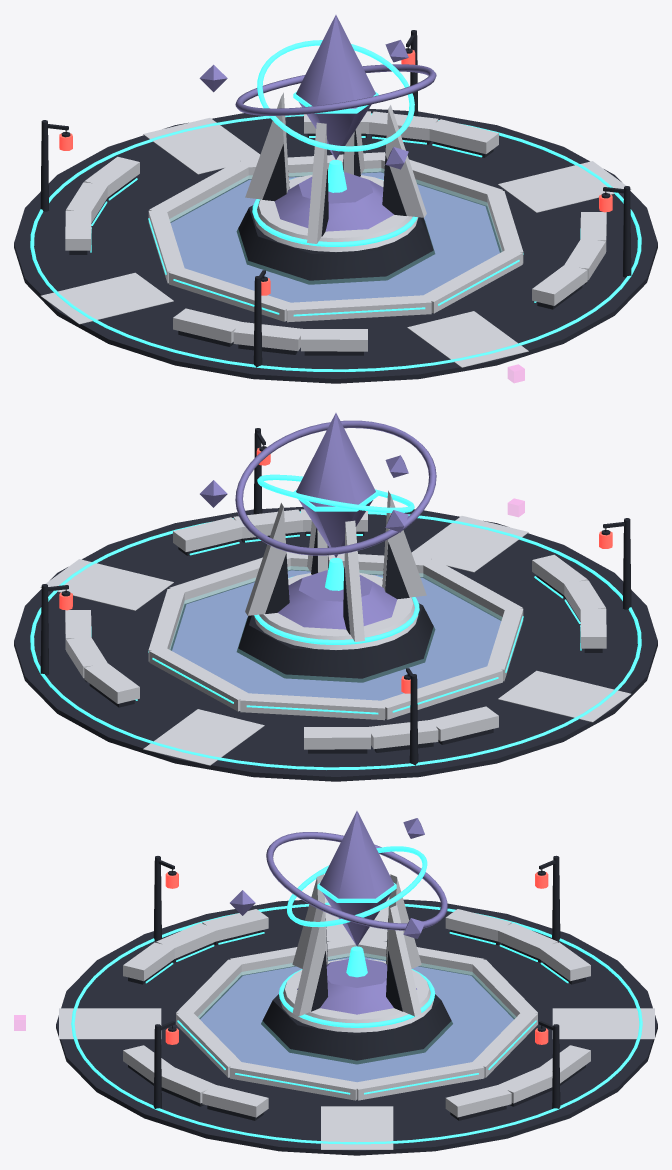
Rendered from AAT_AegisCore.glb.
3 views of the same model, one above another, from view 1: azimuth 30°, elevation 25°; view 2: azimuth 150°, elevation 25°; view 3: azimuth 270°, elevation 25° (orthographic). The views are drawn at different scales.
Parts seen in each view (by area): view 1: Floor_CorePlaza__floor, AegisCoreDeco__pearl, AegisCoreDeco__lavender, AegisCoreDeco__glass, AegisCoreDeco__bio, Wall_CoreBase__graphite, AegisCoreDeco__graphite, AegisCrystal__lavender, Wall_PoolRim8__pearl, CoreHaloOuter__lavender, Wall_PoolRim7__pearl, CoreHalo__bio (+18 smaller); view 2: Floor_CorePlaza__floor, AegisCoreDeco__pearl, AegisCoreDeco__lavender, AegisCoreDeco__glass, AegisCoreDeco__bio, Wall_CoreBase__graphite, AegisCoreDeco__graphite, AegisCrystal__lavender, CoreHaloOuter__lavender, Wall_PoolRim5__pearl, Wall_PoolRim6__pearl, Wall_PoolRim4__pearl (+18 smaller); view 3: Floor_CorePlaza__floor, AegisCoreDeco__pearl, AegisCoreDeco__lavender, AegisCoreDeco__glass, AegisCoreDeco__bio, Wall_CoreBase__graphite, AegisCoreDeco__graphite, AegisCrystal__lavender, CoreHaloOuter__lavender, Wall_PoolRim3__pearl, Wall_PoolRim2__pearl, Wall_PoolRim7__pearl (+19 smaller).
Boxes of the visible parts, x1=… form: Floor_CorePlaza__floor: x1=14, y1=108, x2=657, y2=383; AegisCoreDeco__pearl: x1=41, y1=92, x2=631, y2=367; AegisCoreDeco__lavender: x1=170, y1=40, x2=499, y2=302; AegisCoreDeco__glass: x1=169, y1=168, x2=501, y2=302; AegisCoreDeco__bio: x1=30, y1=113, x2=641, y2=371; Wall_CoreBase__graphite: x1=236, y1=205, x2=435, y2=284; AegisCoreDeco__graphite: x1=40, y1=30, x2=631, y2=367; AegisCrystal__lavender: x1=296, y1=15, x2=375, y2=159; Wall_PoolRim8__pearl: x1=286, y1=295, x2=431, y2=322; CoreHaloOuter__lavender: x1=235, y1=64, x2=436, y2=115; Wall_PoolRim7__pearl: x1=169, y1=268, x2=294, y2=321; CoreHalo__bio: x1=257, y1=40, x2=414, y2=151; Floor_CorePlaza__floor: x1=14, y1=506, x2=657, y2=781; AegisCoreDeco__pearl: x1=40, y1=490, x2=630, y2=765; AegisCoreDeco__lavender: x1=172, y1=455, x2=501, y2=700; AegisCoreDeco__glass: x1=170, y1=566, x2=502, y2=700; AegisCoreDeco__bio: x1=30, y1=511, x2=641, y2=769; Wall_CoreBase__graphite: x1=236, y1=603, x2=435, y2=682; AegisCoreDeco__graphite: x1=40, y1=428, x2=631, y2=765; AegisCrystal__lavender: x1=296, y1=413, x2=375, y2=557; CoreHaloOuter__lavender: x1=235, y1=420, x2=436, y2=555; Wall_PoolRim5__pearl: x1=240, y1=693, x2=385, y2=720; Wall_PoolRim6__pearl: x1=377, y1=666, x2=502, y2=719; Wall_PoolRim4__pearl: x1=149, y1=648, x2=251, y2=711; Floor_CorePlaza__floor: x1=56, y1=899, x2=657, y2=1155; AegisCoreDeco__pearl: x1=59, y1=874, x2=654, y2=1149; AegisCoreDeco__lavender: x1=200, y1=818, x2=513, y2=1082; AegisCoreDeco__glass: x1=198, y1=953, x2=515, y2=1081; AegisCoreDeco__bio: x1=71, y1=902, x2=642, y2=1144; Wall_CoreBase__graphite: x1=261, y1=994, x2=452, y2=1064; AegisCoreDeco__graphite: x1=128, y1=855, x2=585, y2=1120; AegisCrystal__lavender: x1=319, y1=811, x2=394, y2=946; CoreHaloOuter__lavender: x1=266, y1=832, x2=447, y2=930; Wall_PoolRim3__pearl: x1=354, y1=1061, x2=484, y2=1100; Wall_PoolRim2__pearl: x1=230, y1=1061, x2=361, y2=1100; Wall_PoolRim7__pearl: x1=230, y1=937, x2=361, y2=975.
Size of the model in its own units: 50 by 20 by 53.5.
